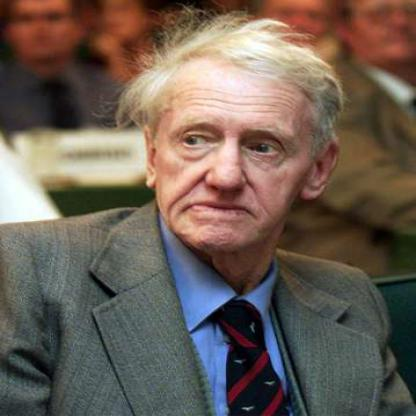face: (153, 40, 314, 252), (260, 1, 334, 61), (11, 1, 81, 59), (87, 1, 146, 46)
